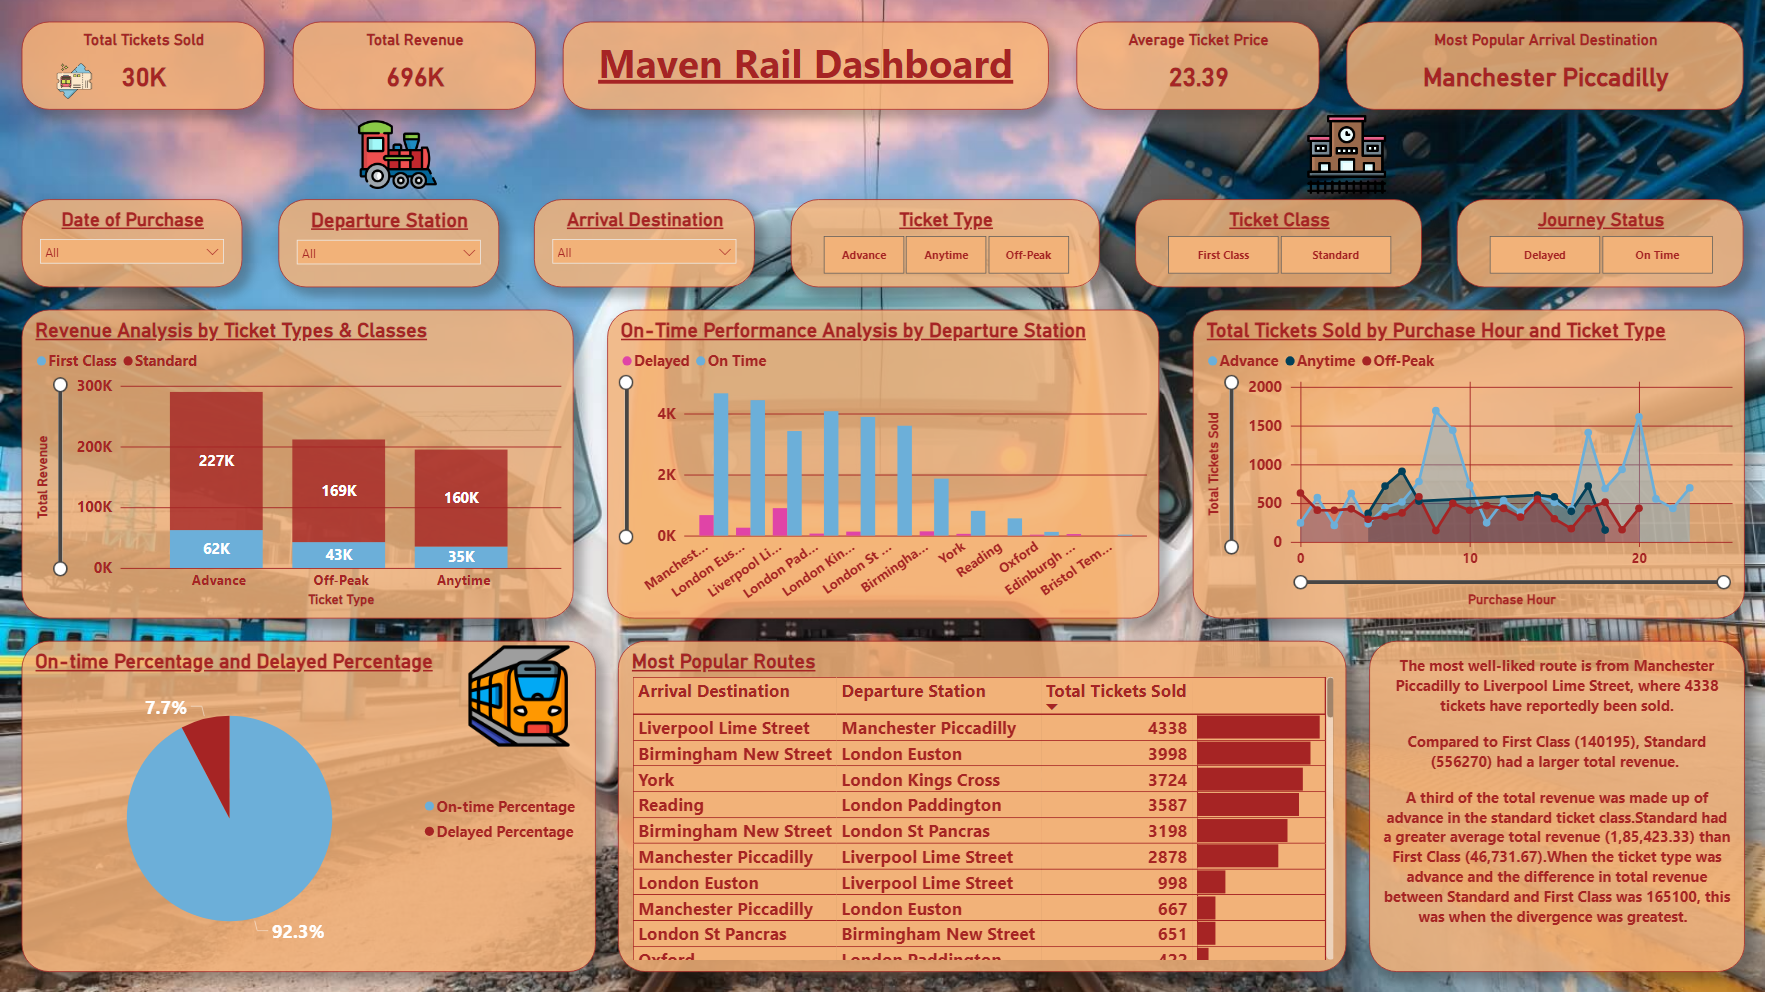

What the dashboard file says about the page in this screenshot:
{"tool":"powerbi","page":{"name":"Page 1","canvas":[1920,1080],"ordinal":0},"visuals":[{"type":"tableEx","title":"Most Popular Routes","fields":{"Values":["Table.Arrival Destination","Table.Departure Station","Table.Total Tickets Sold","Table.tal Tickets Sold"]},"box":[672,696,792,360],"z":0},{"type":"areaChart","fields":{"Category":["Table.Purchase Hour"],"Y":["Table.Total Tickets Sold"],"Series":["Table.Ticket Type"]},"box":[1296,336,600,336],"z":1000},{"type":"columnChart","title":"Revenue Analysis by Ticket Types & Classes","fields":{"Category":["Table.Ticket Type"],"Y":["Table.Total Revenue"],"Series":["Table.Ticket Class"]},"box":[24,336,600,336],"z":2000},{"type":"pieChart","fields":{"Y":["Table.On-time Percentage","Table.Delayed Percentage"]},"box":[24,696,624,360],"z":3000},{"type":"clusteredColumnChart","title":"On-Time Performance Analysis by Departure Station","fields":{"Series":["Table.Journey Status"],"Category":["Table.Departure Station"],"Y":["Table.Total Tickets Sold"]},"box":[660,336,600,336],"z":4000},{"type":"slicer","title":"Date of Purchase","fields":{"Values":["Table.Date of Purchase"]},"box":[24,216,240,96],"z":5000},{"type":"slicer","title":"Departure Station","fields":{"Values":["Table.Departure Station"]},"box":[302.4,216,240,96],"z":6000},{"type":"slicer","title":"Arrival Destination","fields":{"Values":["Table.Arrival Destination"]},"box":[580.8,216,240,96],"z":7000},{"type":"slicer","title":"Ticket Type","fields":{"Values":["Table.Ticket Type"]},"box":[859.2,216,336,96],"z":8000},{"type":"slicer","title":"Ticket Class","fields":{"Values":["Table.Ticket Class"]},"box":[1233.6,216,312,96],"z":9000},{"type":"slicer","title":"Journey Status","fields":{"Values":["Table.Journey Status"]},"box":[1584,216,312,96],"z":10000},{"type":"card","title":"Total Tickets Sold","fields":{"Values":["Table.Total Tickets Sold"]},"box":[24,24,264,96],"z":11000},{"type":"card","title":"Total Revenue","fields":{"Values":["Table.Total Revenue"]},"box":[318,24,264,96],"z":12000},{"type":"card","title":"Average Ticket Price","fields":{"Values":["Table.Average Ticket Price"]},"box":[1170,24,264,96],"z":13000},{"type":"card","title":"Most Popular Arrival Destination","fields":{"Values":["Table.Most Popular Departure Station"]},"box":[1464,24,432,96],"z":14000},{"type":"textbox","box":[1488,696,408,360],"z":15000},{"type":"textbox","box":[612,24,528,96],"z":15001},{"type":"image","box":[480,696,168,120],"z":15002},{"type":"image","box":[32,64,96,48],"z":15003},{"type":"image","box":[288,120,288,96],"z":15004},{"type":"image","box":[1320,120,288,96],"z":15005}]}

Visuals, with their boxes in screenshot pixels (x1, y1, x2, y2), scaled from the page's 1920x1080 canvas onto the 1765x992 screenshot:
"Most Popular Routes" tableEx: [left=618, top=639, right=1346, bottom=970]
areaChart - Table.Purchase Hour x Table.Total Tickets Sold: [left=1191, top=309, right=1743, bottom=617]
"Revenue Analysis by Ticket Types & Classes" columnChart: [left=22, top=309, right=574, bottom=617]
pieChart - Table.On-time Percentage x Table.Delayed Percentage: [left=22, top=639, right=596, bottom=970]
"On-Time Performance Analysis by Departure Station" clusteredColumnChart: [left=607, top=309, right=1158, bottom=617]
"Date of Purchase" slicer: [left=22, top=198, right=243, bottom=287]
"Departure Station" slicer: [left=278, top=198, right=499, bottom=287]
"Arrival Destination" slicer: [left=534, top=198, right=755, bottom=287]
"Ticket Type" slicer: [left=790, top=198, right=1099, bottom=287]
"Ticket Class" slicer: [left=1134, top=198, right=1421, bottom=287]
"Journey Status" slicer: [left=1456, top=198, right=1743, bottom=287]
"Total Tickets Sold" card: [left=22, top=22, right=265, bottom=110]
"Total Revenue" card: [left=292, top=22, right=535, bottom=110]
"Average Ticket Price" card: [left=1076, top=22, right=1318, bottom=110]
"Most Popular Arrival Destination" card: [left=1346, top=22, right=1743, bottom=110]
textbox: [left=1368, top=639, right=1743, bottom=970]
textbox: [left=563, top=22, right=1048, bottom=110]
image: [left=441, top=639, right=596, bottom=750]
image: [left=29, top=59, right=118, bottom=103]
image: [left=265, top=110, right=530, bottom=198]
image: [left=1213, top=110, right=1478, bottom=198]
